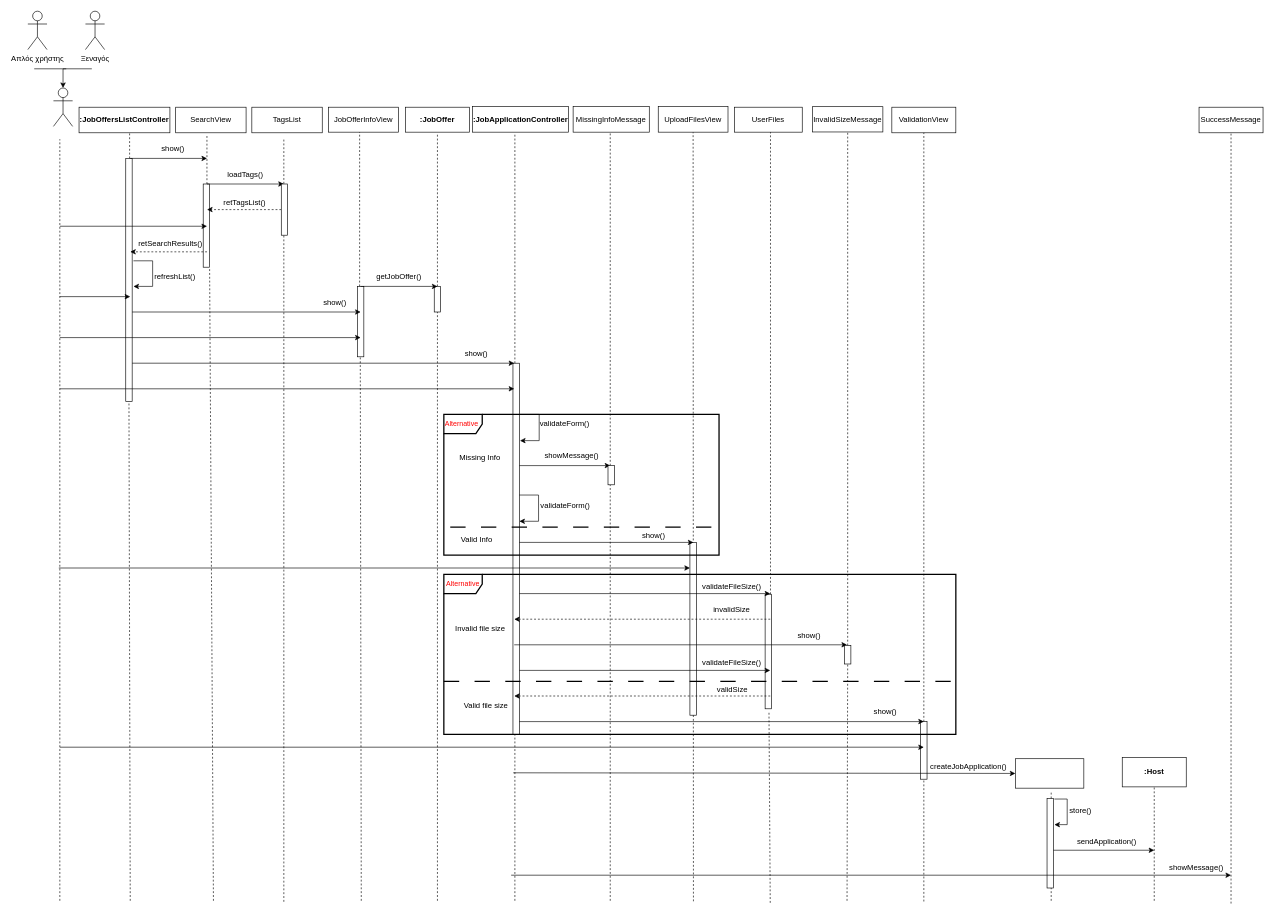
Some shapes in this 1274 by 916 pixel diagram are drawn without their labels. Here are the shapes that lost their labels. From the top down, the centre of each, then its label:
At point (63, 106): "Χειριστής".
At point (1049, 773): ":JobApplication".
